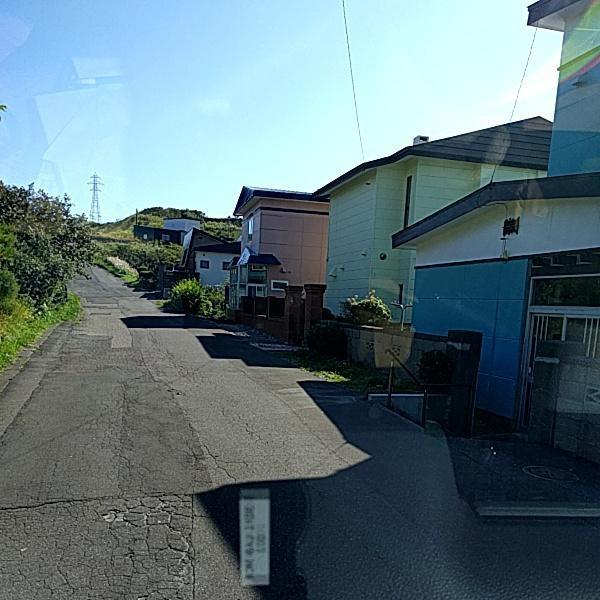pothole: (100, 508, 128, 522)
